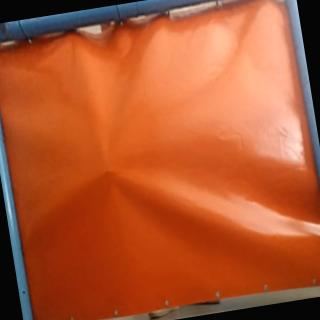Hit-hRxx: (99, 164, 126, 181)
